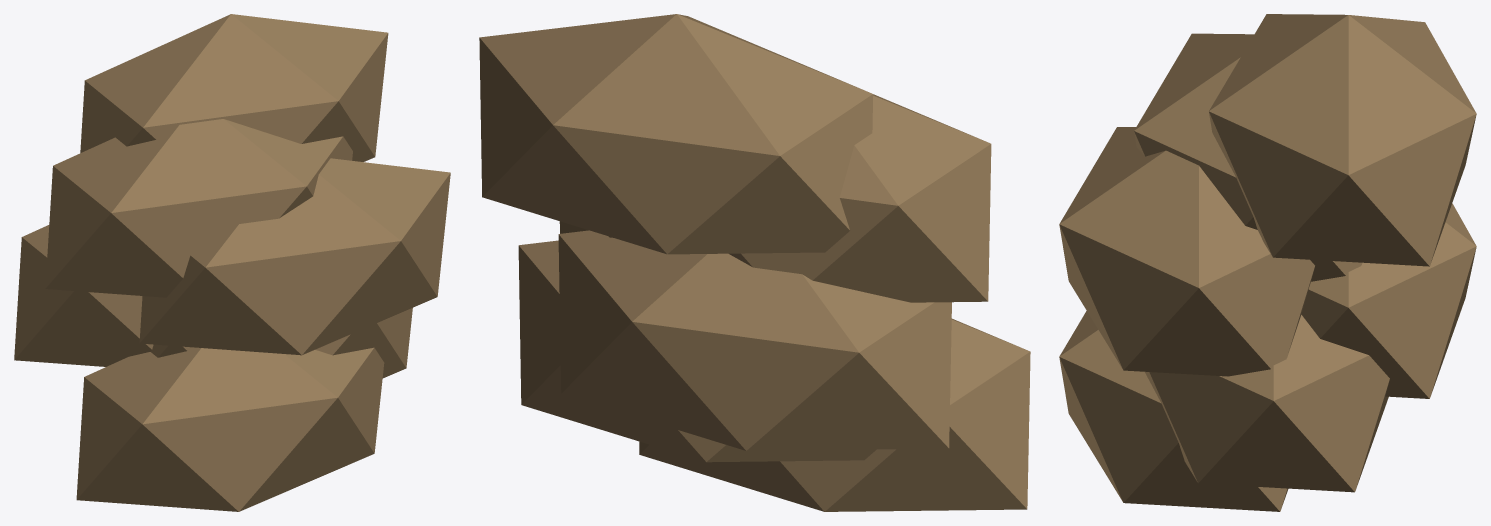
Rendered from item_101_bog_iron_l.glb.
3 renders of one model, left to right at view 1: azimuth 30°, elevation 25°; view 2: azimuth 150°, elevation 25°; view 3: azimuth 270°, elevation 25°, orthographic. The views are drawn at different scales.
Visible parts, largest first — view 1: item_101_bog_iron_l; view 2: item_101_bog_iron_l; view 3: item_101_bog_iron_l.
Part boxes in pixels (x1,y1,x2,y2): item_101_bog_iron_l: (14,14,450,511); item_101_bog_iron_l: (479,14,1030,511); item_101_bog_iron_l: (1059,14,1476,511).
Size of the model in its own units: 0.4158 by 0.4515 by 0.3351.
